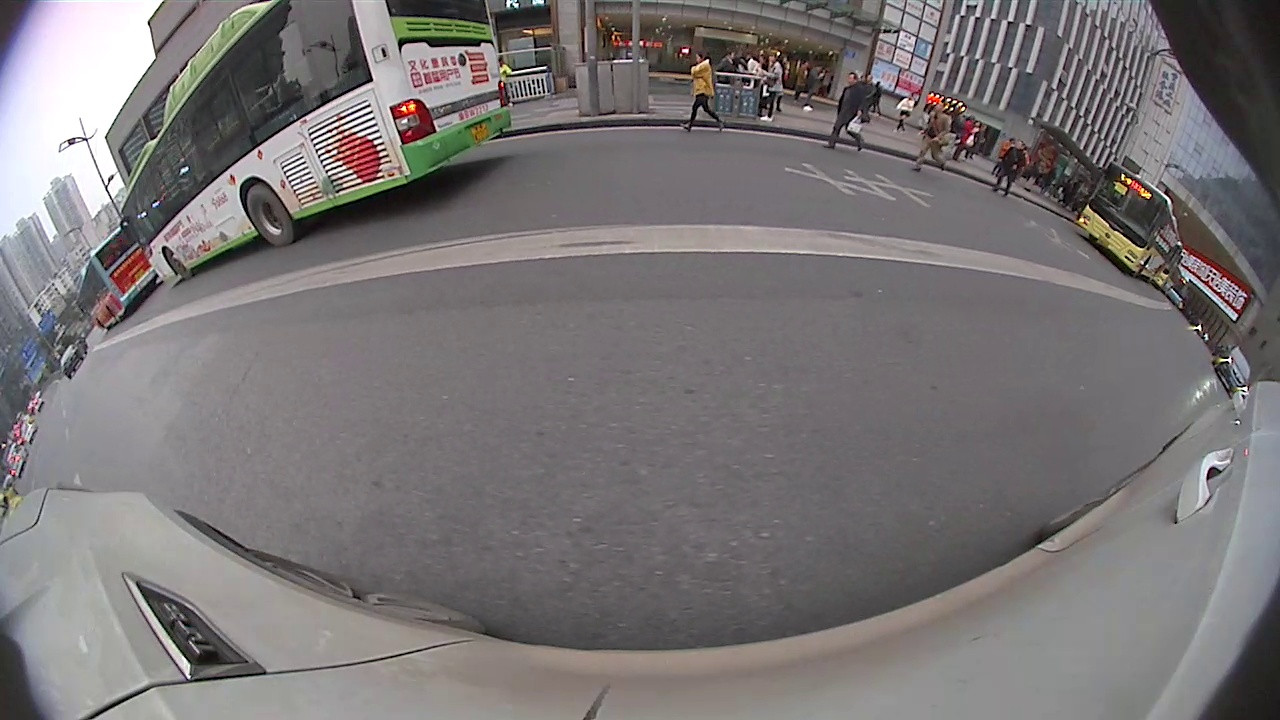car: (886, 138, 1121, 337), (82, 158, 263, 313), (515, 43, 585, 113), (1166, 328, 1217, 400)
front: (136, 242, 178, 291), (1080, 304, 1114, 335)
person: (353, 90, 368, 145), (378, 88, 392, 134)
rear: (995, 259, 1043, 309), (96, 273, 124, 310)
